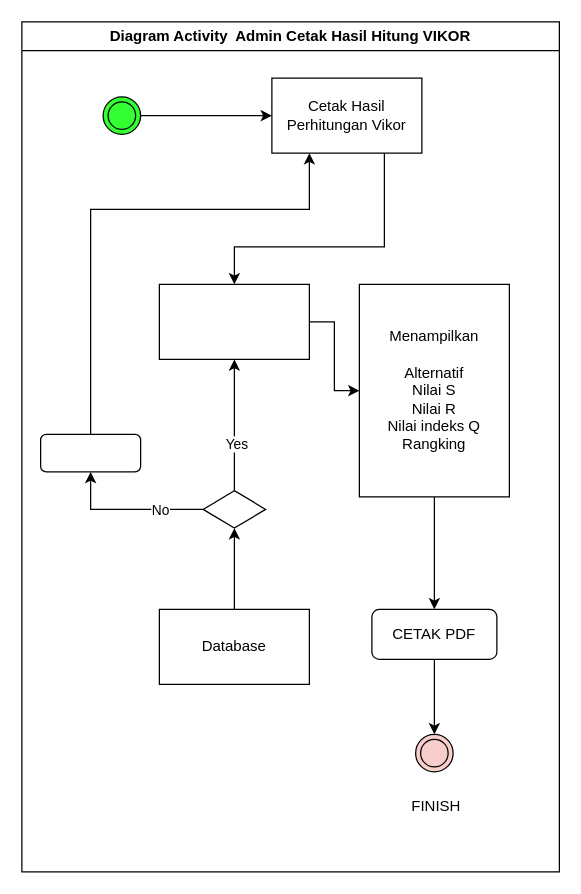
Some shapes in this 581 by 894 pixel diagram are drawn without their labels. Each missing label, with the centre of its shape:
Belum Ada Data: point 90,452
Menampilkan Data Hasil Perhitungan: point 233,321
START: point 121,115
